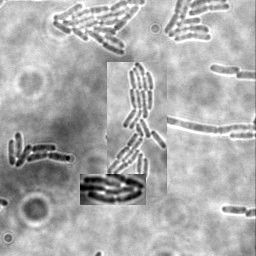Dividing: (168, 114, 255, 133), (221, 204, 248, 215)
Microcolony: (107, 62, 167, 196), (51, 1, 147, 56), (162, 1, 231, 44), (8, 130, 72, 167), (80, 174, 146, 205), (208, 63, 240, 74)
